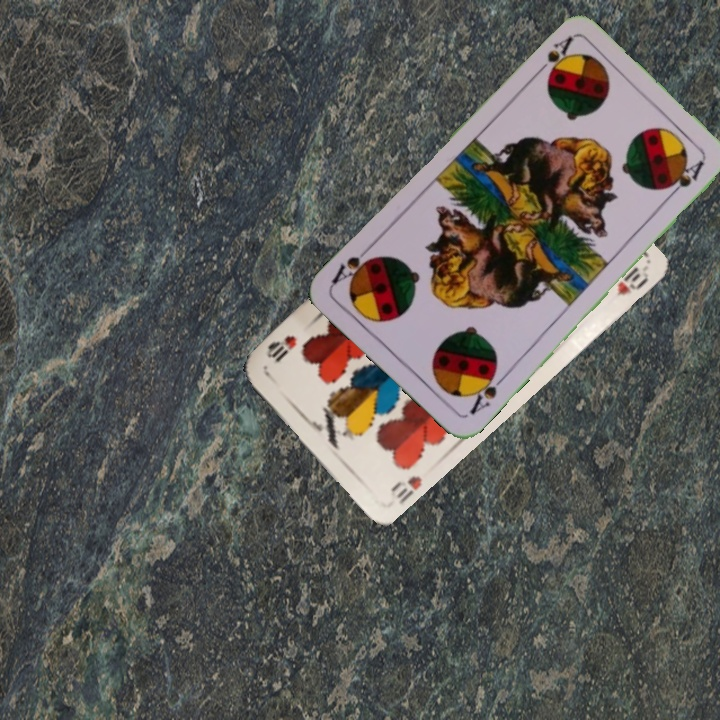H10: (386, 471, 425, 507)
SA: (465, 364, 509, 418), (529, 33, 575, 80)
